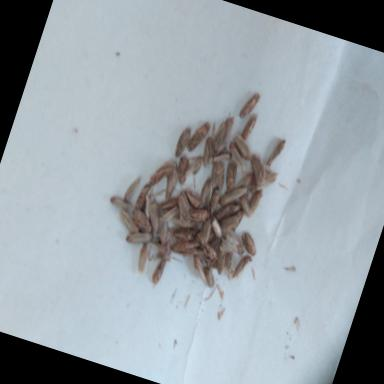pbw: (185, 116, 215, 158), (216, 228, 250, 260), (220, 142, 252, 176), (148, 210, 176, 248), (210, 114, 234, 155), (227, 132, 258, 162), (140, 200, 167, 234), (242, 156, 270, 188), (249, 167, 278, 197), (170, 191, 196, 224), (218, 181, 246, 211), (236, 90, 260, 124), (186, 255, 212, 286), (266, 134, 288, 170), (219, 160, 242, 194), (112, 209, 142, 235), (216, 208, 242, 238), (214, 197, 242, 224), (172, 126, 192, 162), (148, 158, 172, 188), (230, 252, 252, 284), (208, 146, 232, 175), (170, 236, 199, 260), (123, 227, 152, 251), (195, 178, 216, 211), (132, 242, 152, 276), (206, 162, 228, 192), (121, 174, 142, 205), (158, 174, 179, 204), (204, 185, 224, 216), (169, 224, 197, 246), (197, 139, 218, 168), (238, 113, 258, 143), (236, 198, 260, 222), (133, 182, 152, 212), (238, 231, 260, 256), (197, 266, 218, 292), (204, 218, 225, 244), (179, 189, 205, 210), (186, 206, 212, 226), (172, 158, 192, 184), (106, 193, 133, 212), (148, 259, 165, 288), (196, 241, 218, 263), (210, 252, 230, 276), (162, 201, 182, 225), (184, 156, 204, 180), (195, 222, 213, 248), (172, 215, 196, 231), (248, 193, 262, 216), (222, 255, 238, 274), (238, 173, 254, 192)
